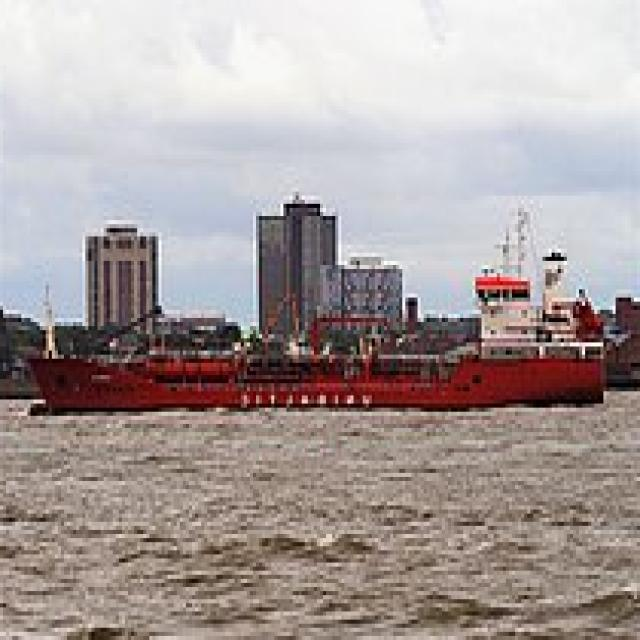Tanker: (21, 236, 612, 416)
